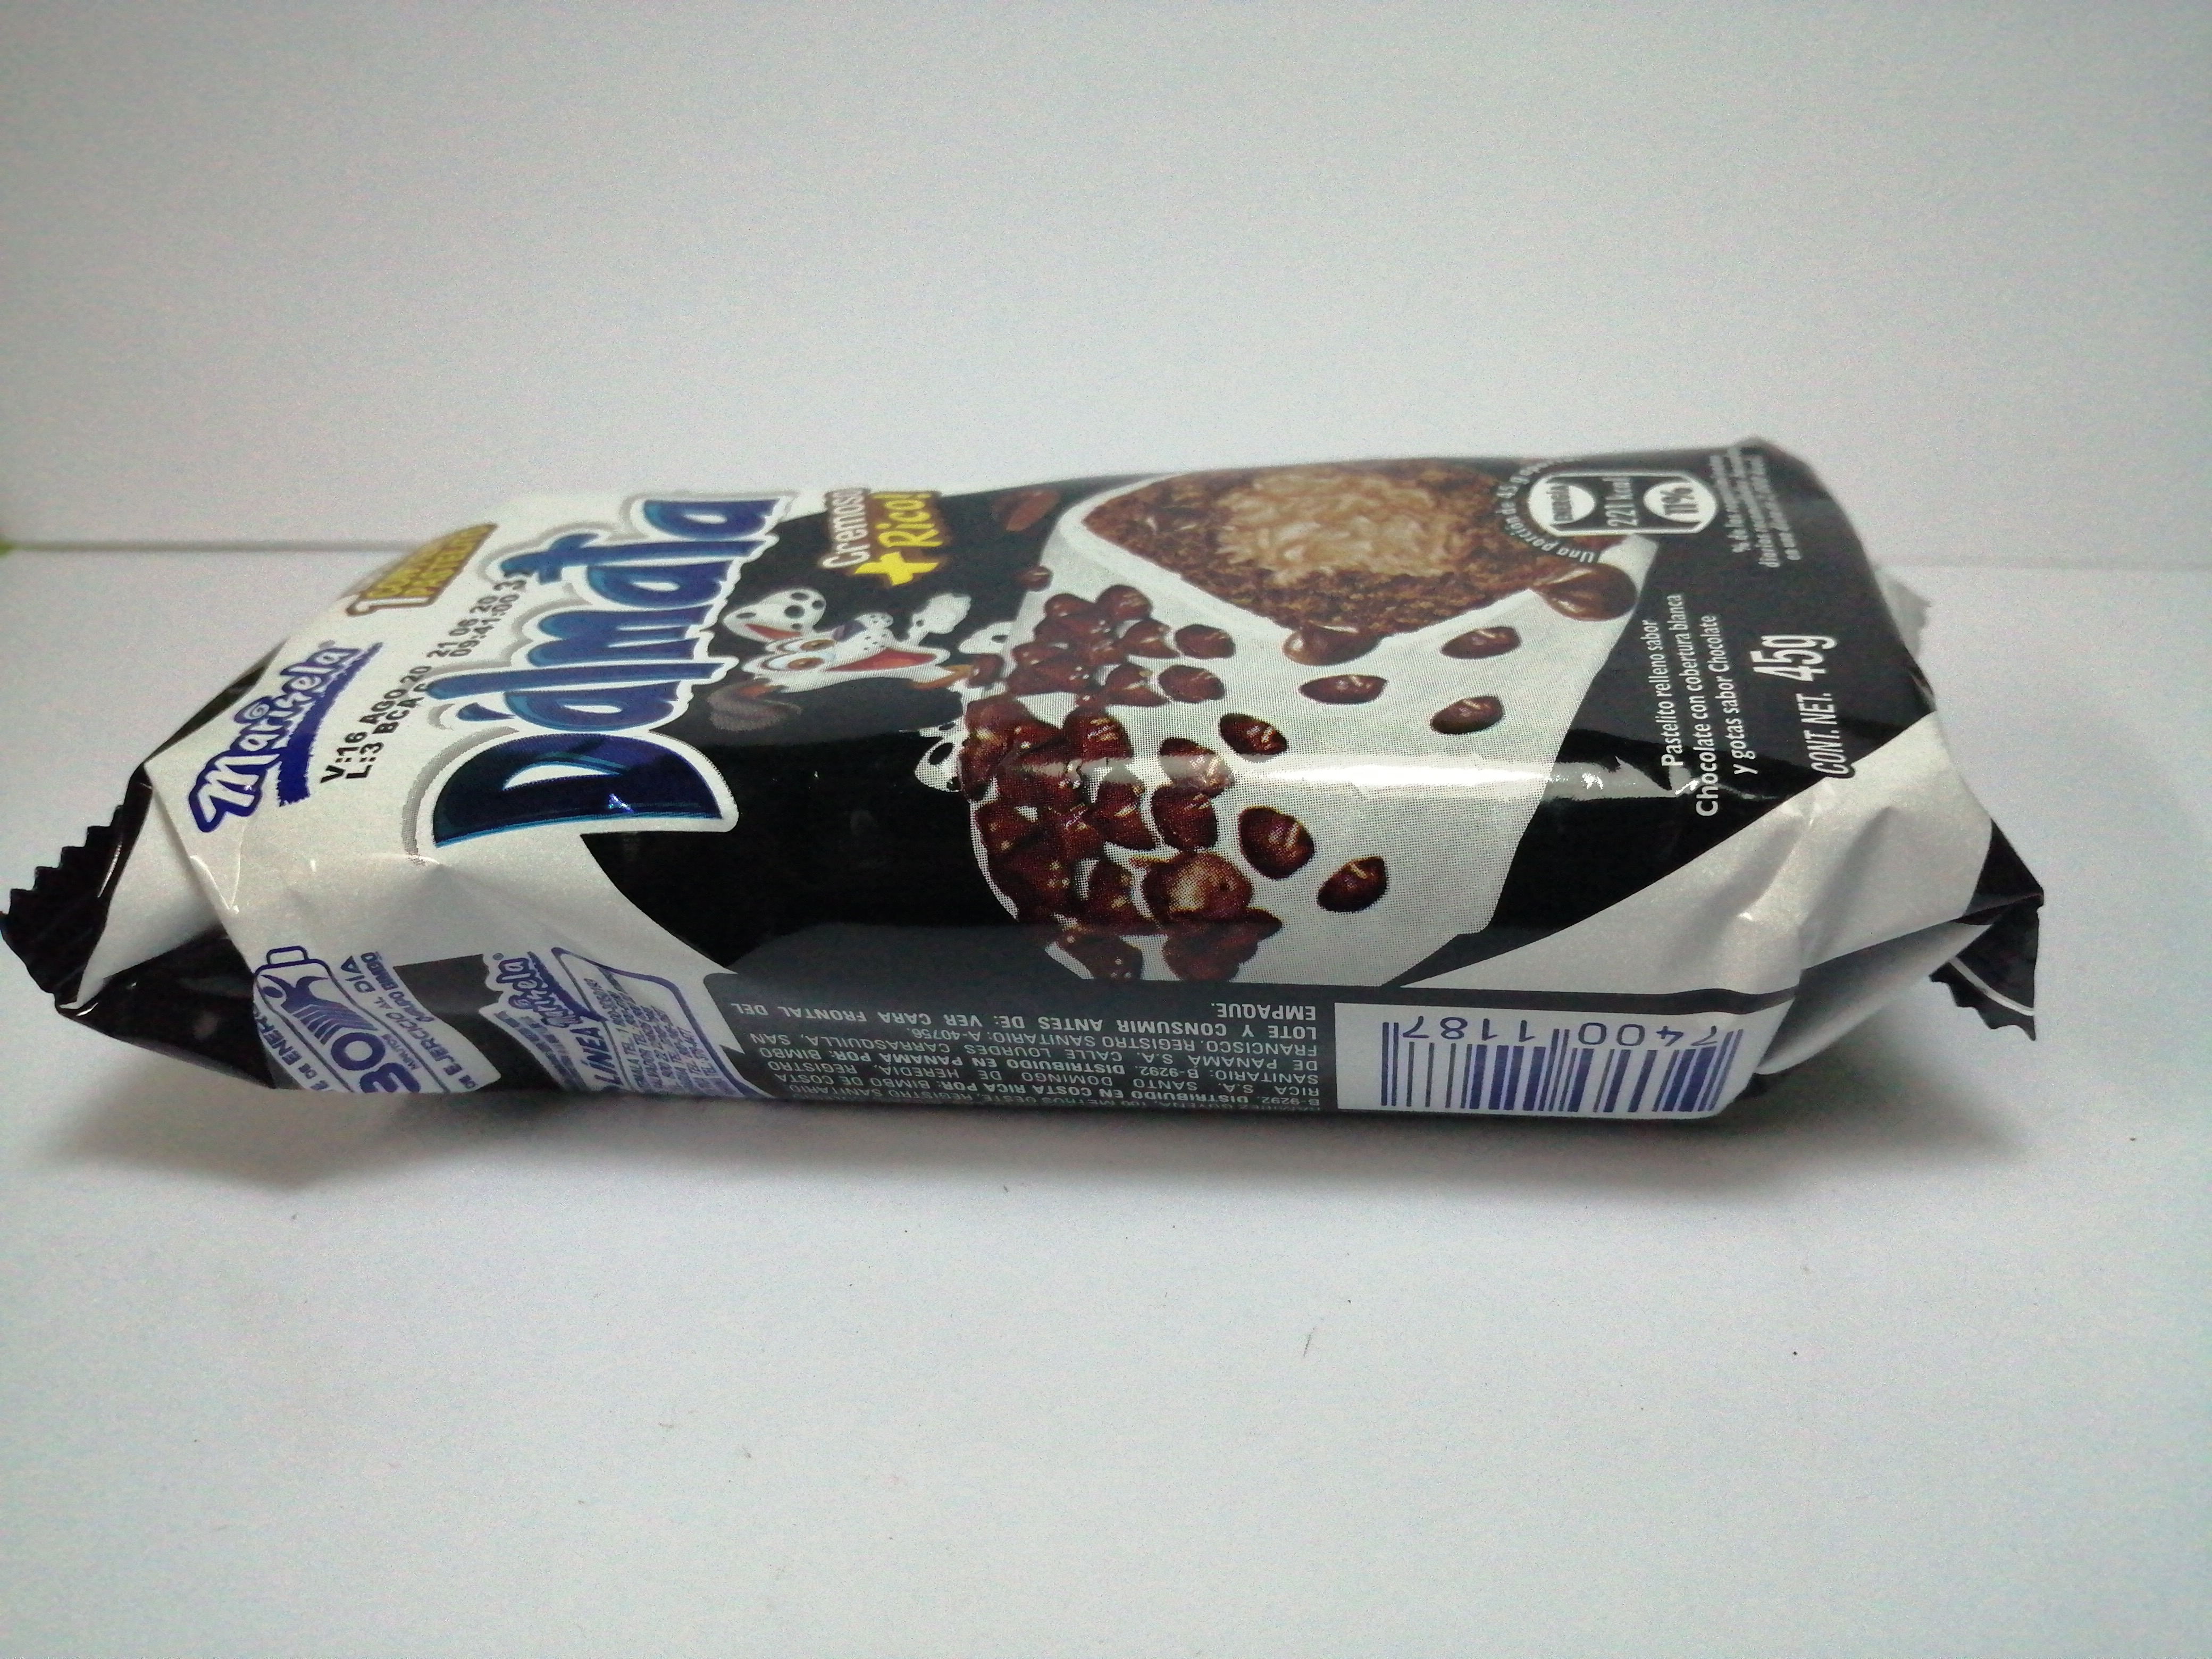dalmata: (0, 392, 2052, 1154)
